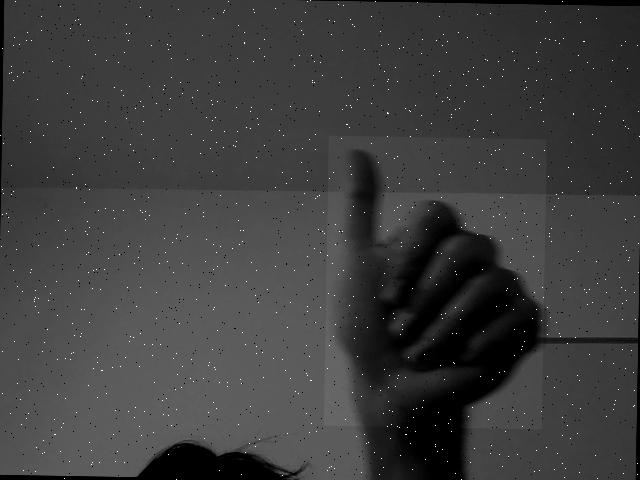good: (327, 136, 544, 427)
